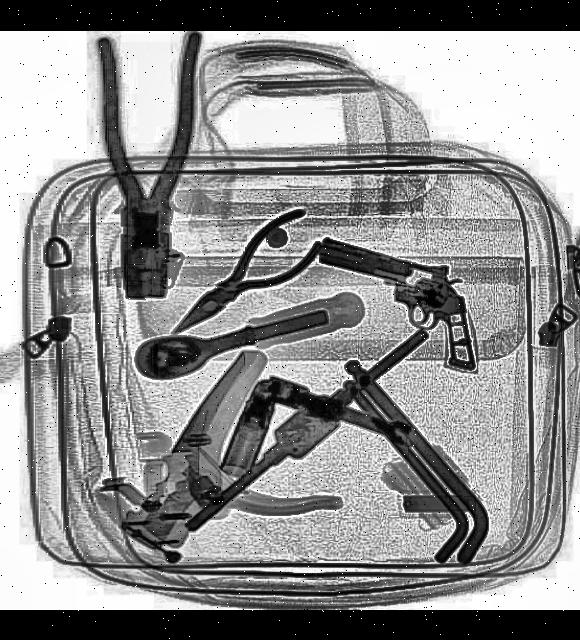Gun: (297, 232, 497, 372)
Pliers: (97, 33, 204, 301), (152, 203, 330, 357)
